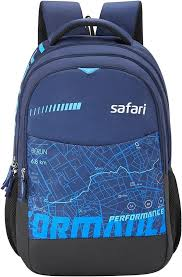backpack: (1, 0, 181, 276)
